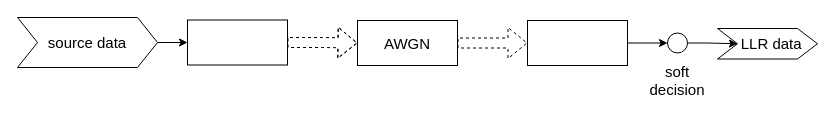
Some shapes in this 835 by 115 pixel diagram are drawn without their labels. Here are the shapes that lost their labels. From the top down, the centre of each, then its label:
(x=237, y=42): modulate
(x=577, y=43): demodulate
